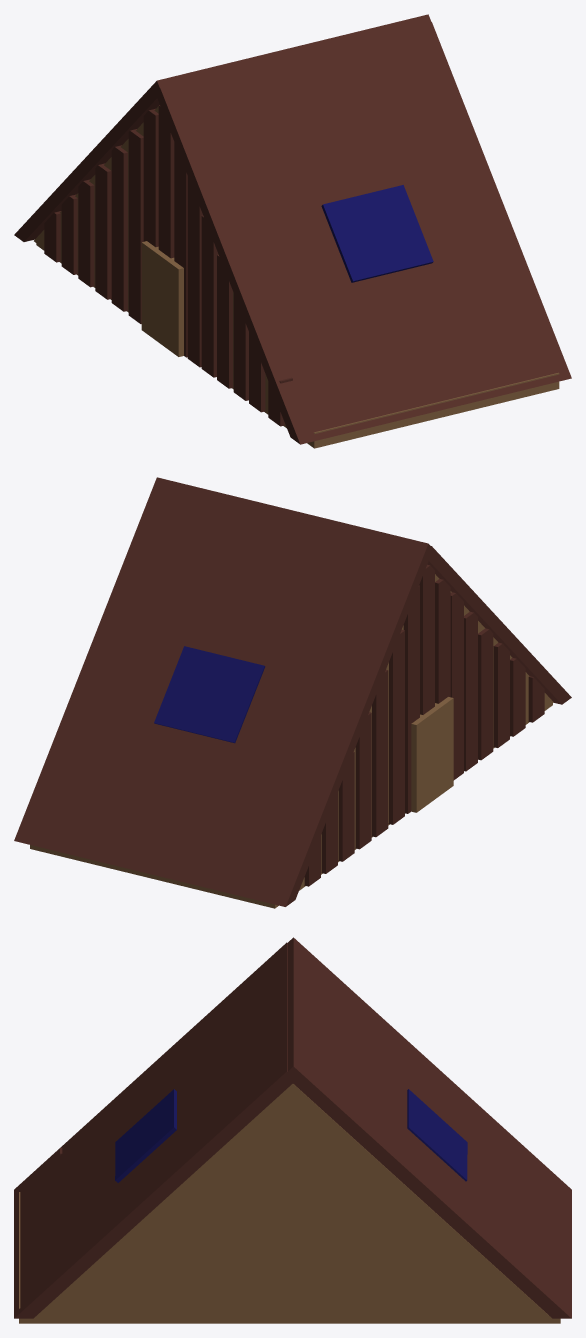
File: PlayerCabin.fbx
The picture shows the model from 3 angles, top to bottom: view 1: azimuth 30°, elevation 25°; view 2: azimuth 150°, elevation 25°; view 3: azimuth 270°, elevation 25°; orthographic projection. The views are drawn at different scales.
Visible parts, largest first — view 1: Cube; view 2: Cube; view 3: Cube.
Boxes of the visible parts, x1,y1,x2,y2 form: Cube: (14,14,571,448); Cube: (14,477,571,908); Cube: (14,937,571,1323).
Size of the model in its own units: 1919 by 1804 by 3483.
